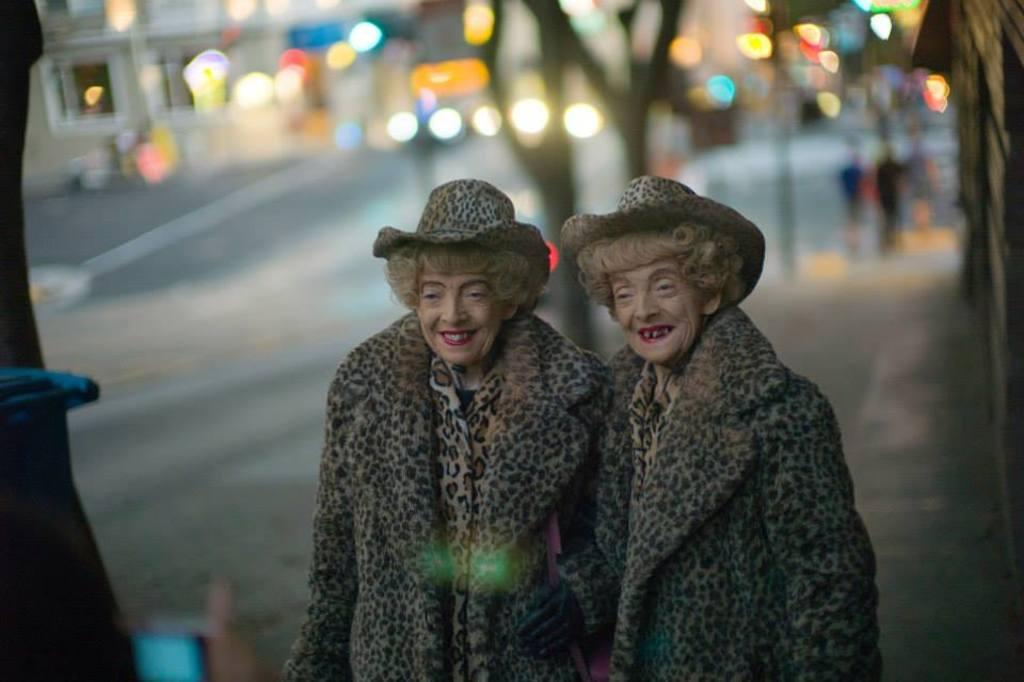Hat: (560, 170, 764, 308), (374, 180, 547, 306)
